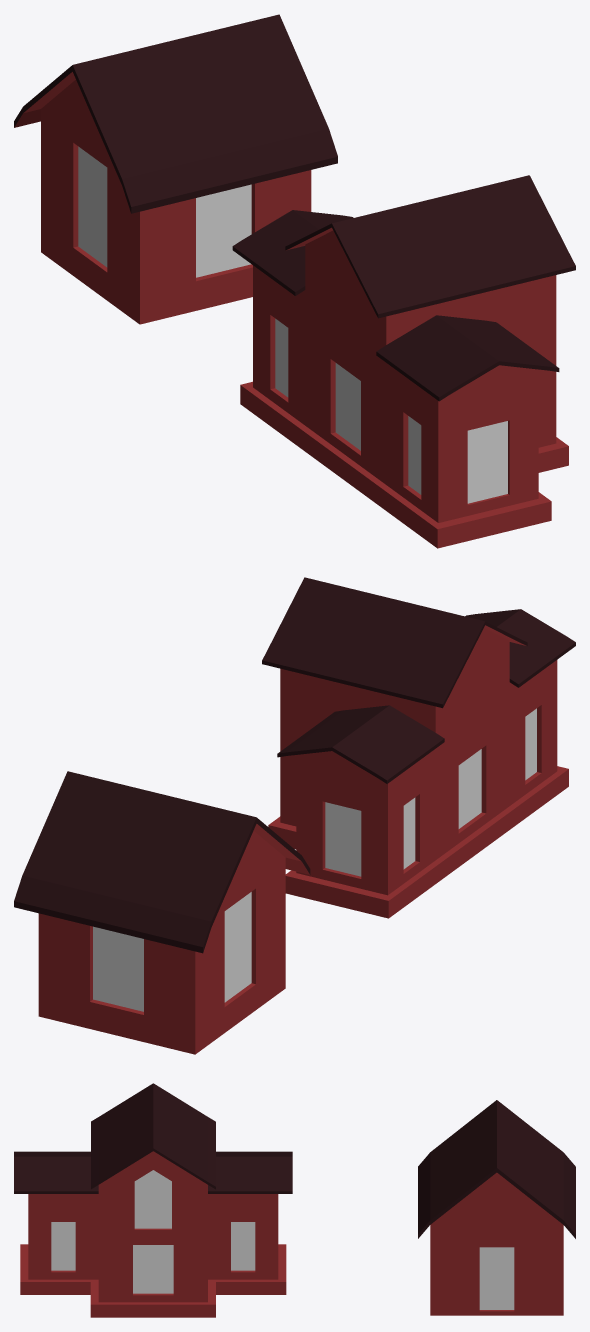
File: House (1).fbx
3 views of the same model, one above another, from view 1: azimuth 30°, elevation 25°; view 2: azimuth 150°, elevation 25°; view 3: azimuth 270°, elevation 25° (orthographic). The views are drawn at different scales.
Visible parts, largest first — view 1: Plane, Plane.001; view 2: Plane, Plane.001; view 3: Plane, Plane.001.
Part boxes in pixels (<box>): Plane: <box>232,175,575,548</box>; Plane.001: <box>14,14,337,324</box>; Plane: <box>262,577,575,918</box>; Plane.001: <box>14,771,310,1054</box>; Plane: <box>14,1083,292,1317</box>; Plane.001: <box>418,1100,575,1315</box>.
Bounding box in the file's own units: 831 × 977 × 2898.
